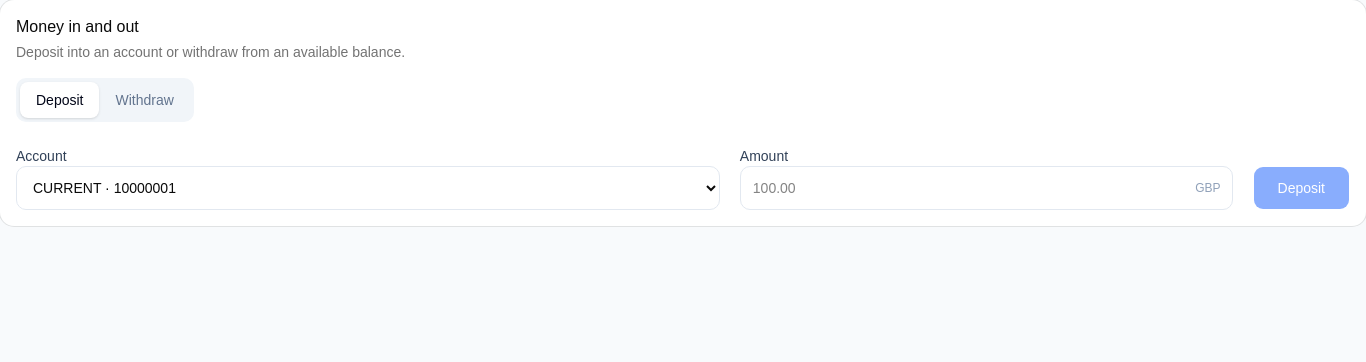
Scenario: CashActionsPanel › creates a withdrawal
Click the button "Withdraw" at (145, 100), box [100,82,190,118]
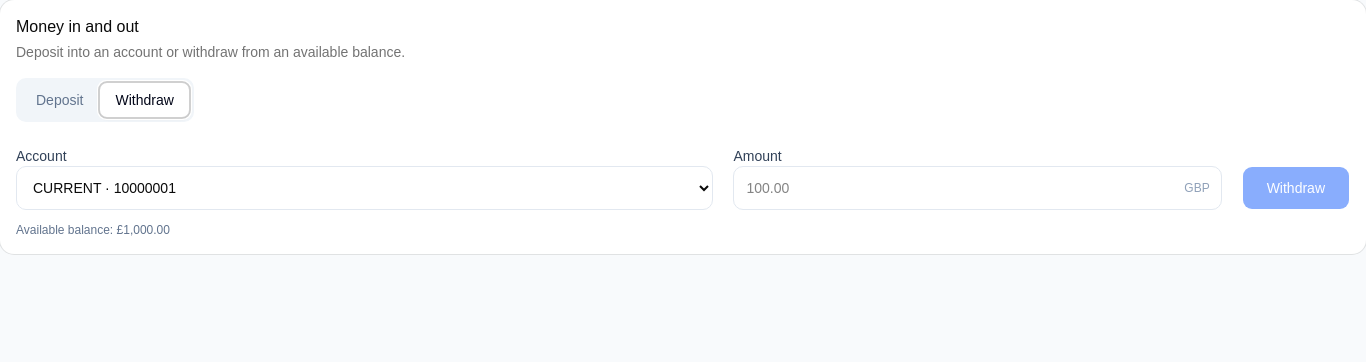
Type "30" into the number field labelled "Amount" at (978, 188), box [733,166,1222,210]
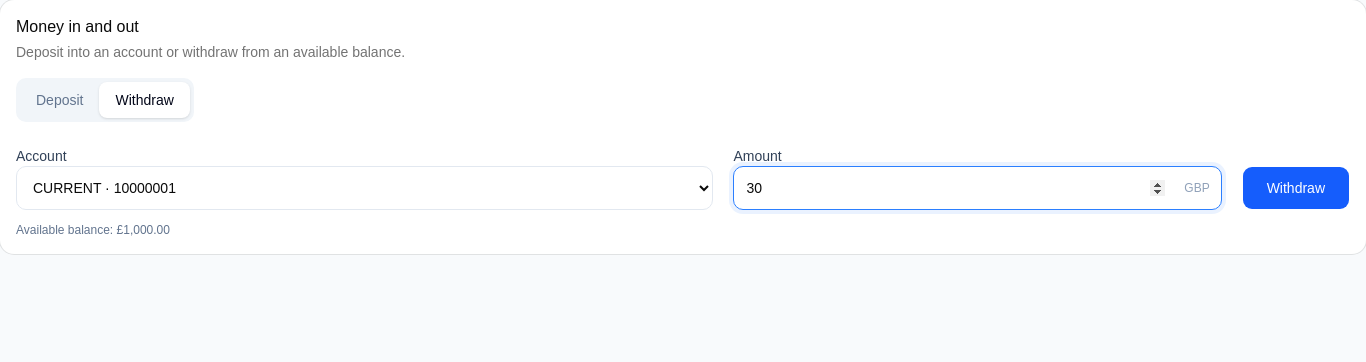
Click the button "Withdraw" next to "GBP" at (1296, 188), box [1242,166,1350,210]
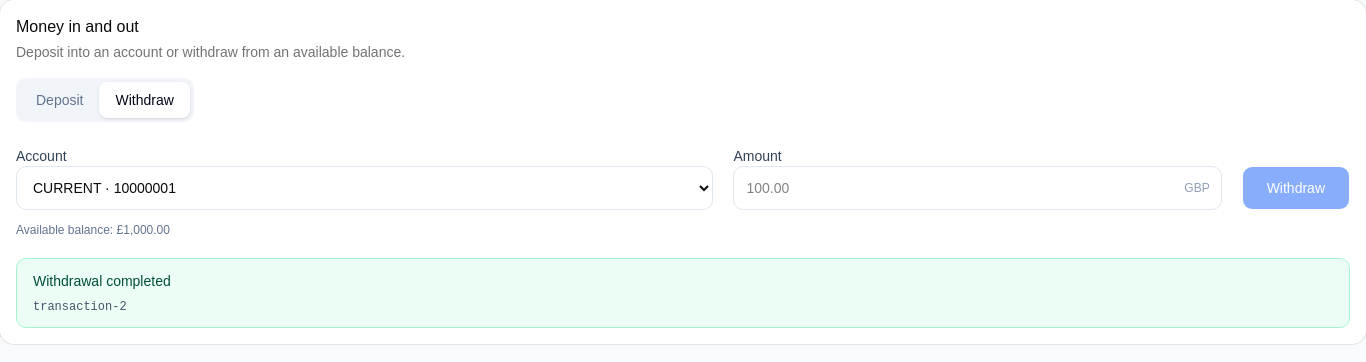
expect the text "Withdrawal completed" is shown: met, box [33,273,171,289]
